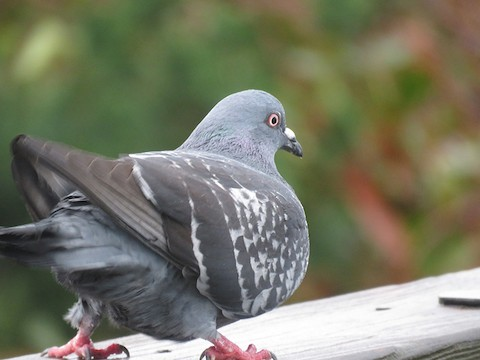pigeon: (8, 85, 313, 353)
